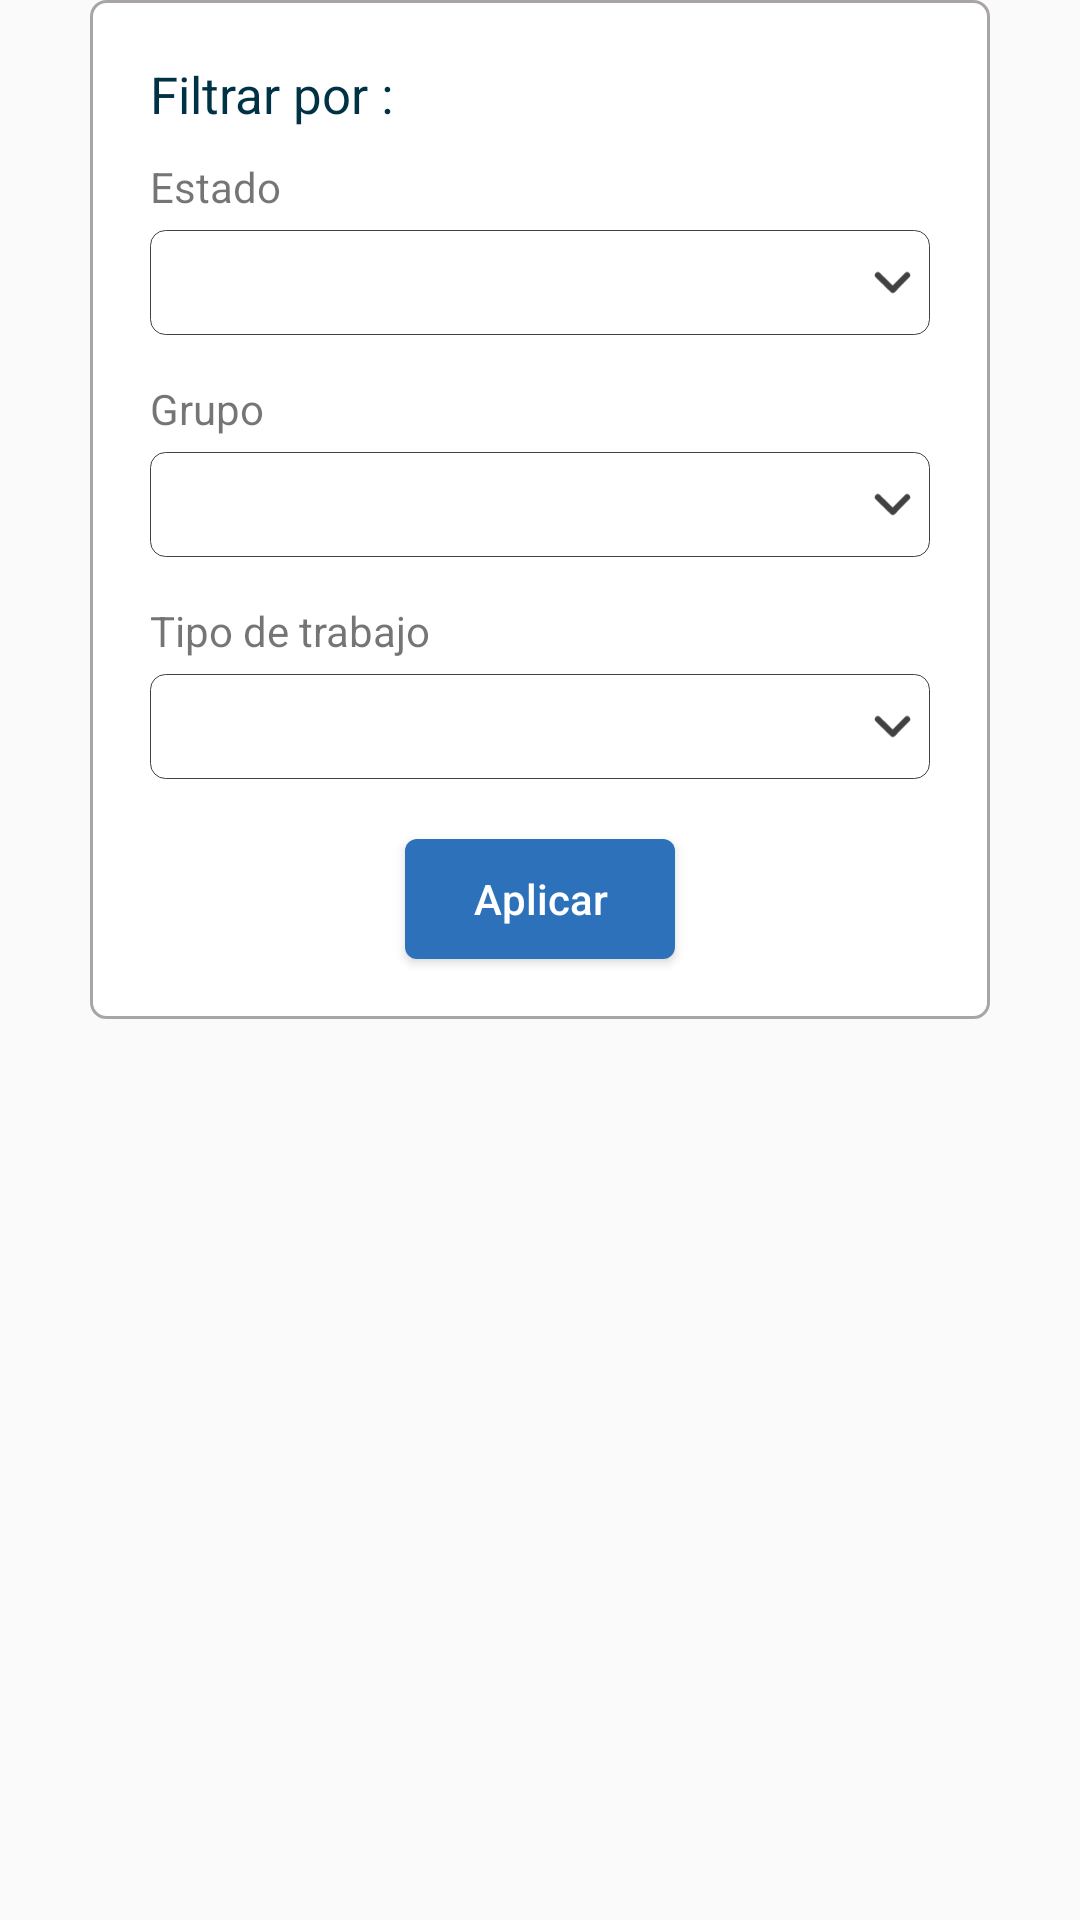

Icons on this 1080×1920 Android screen, each with the point to tap as point (x, y):
arrow down: point (892, 282), point (892, 504), point (892, 726)
